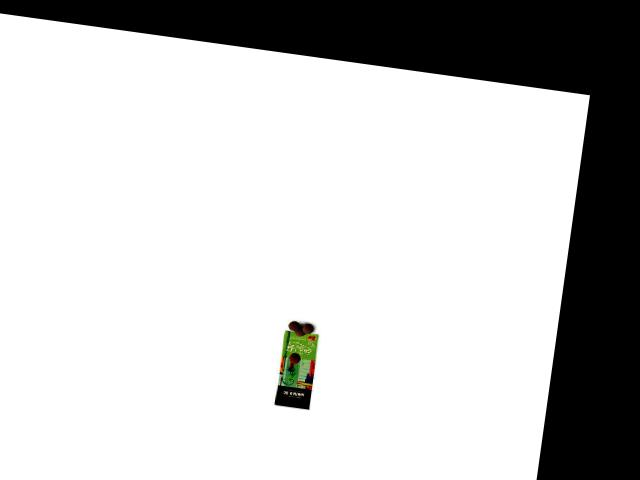chocolate: (265, 327, 324, 413)
